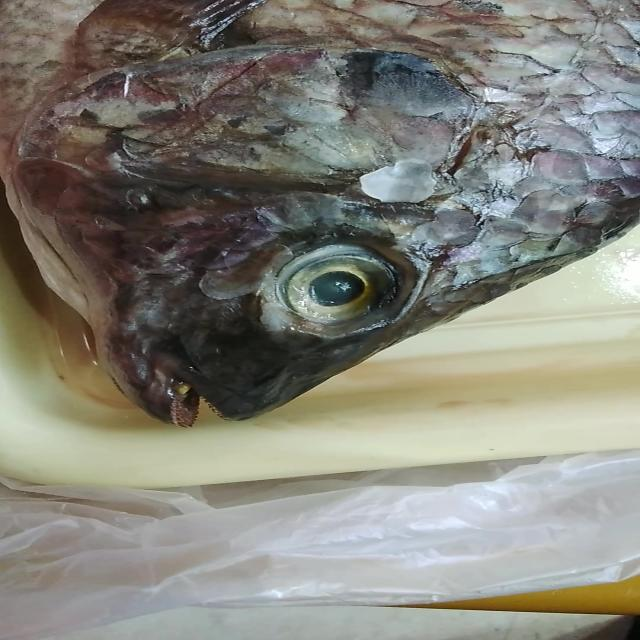Non-Fresh: (245, 208, 419, 364)
